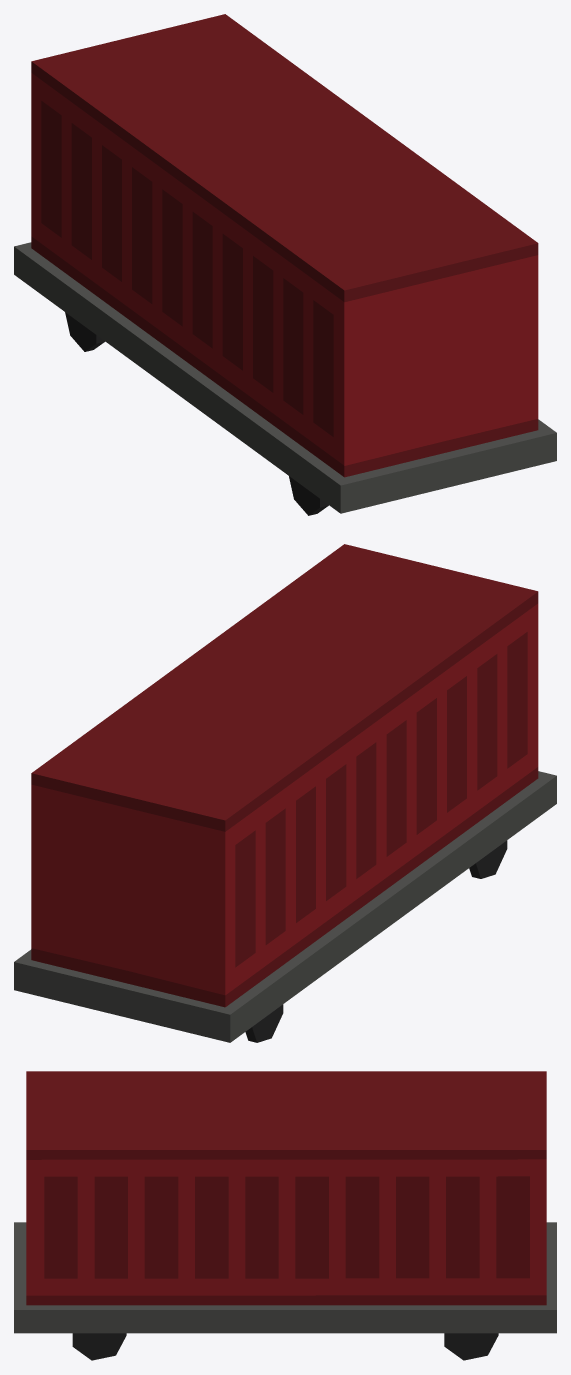
The model's file is vagon1.fbx.
3 renders of one model, top to bottom at view 1: azimuth 30°, elevation 25°; view 2: azimuth 150°, elevation 25°; view 3: azimuth 270°, elevation 25°, orthographic. The views are drawn at different scales.
Parts seen in each view (by area): view 1: Cube, Cube.001, Cube.002; view 2: Cube, Cube.002, Cube.001; view 3: Cube, Cube.002, Cube.001.
Boxes of the visible parts, box(x1,y1,x2,y2) form: Cube: box(14, 14, 556, 513); Cube.001: box(65, 312, 104, 351); Cube.002: box(289, 476, 328, 515); Cube: box(14, 544, 556, 1042); Cube.002: box(469, 840, 507, 878); Cube.001: box(245, 1004, 283, 1042); Cube: box(14, 1071, 556, 1333); Cube.002: box(72, 1333, 126, 1360); Cube.001: box(444, 1333, 498, 1360).
Bounding box in the file's own units: 372 × 419 × 972.
